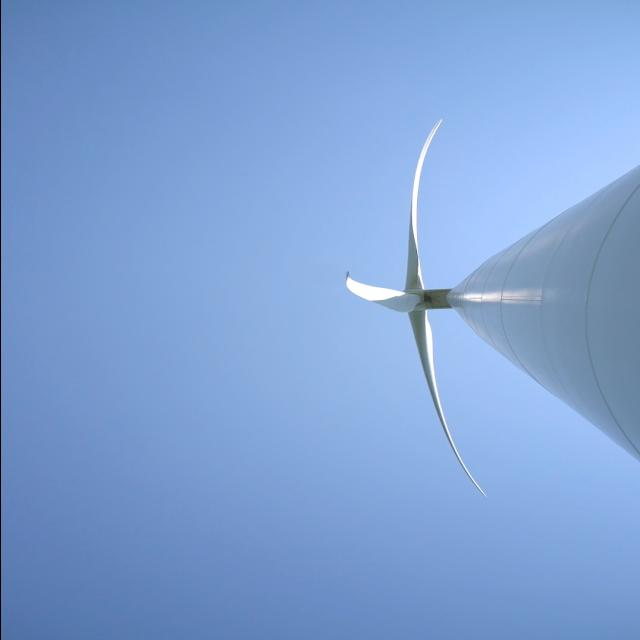blade 1: (406, 336, 461, 510)
blade 2: (396, 87, 461, 259)
blade 3: (327, 268, 396, 340)
